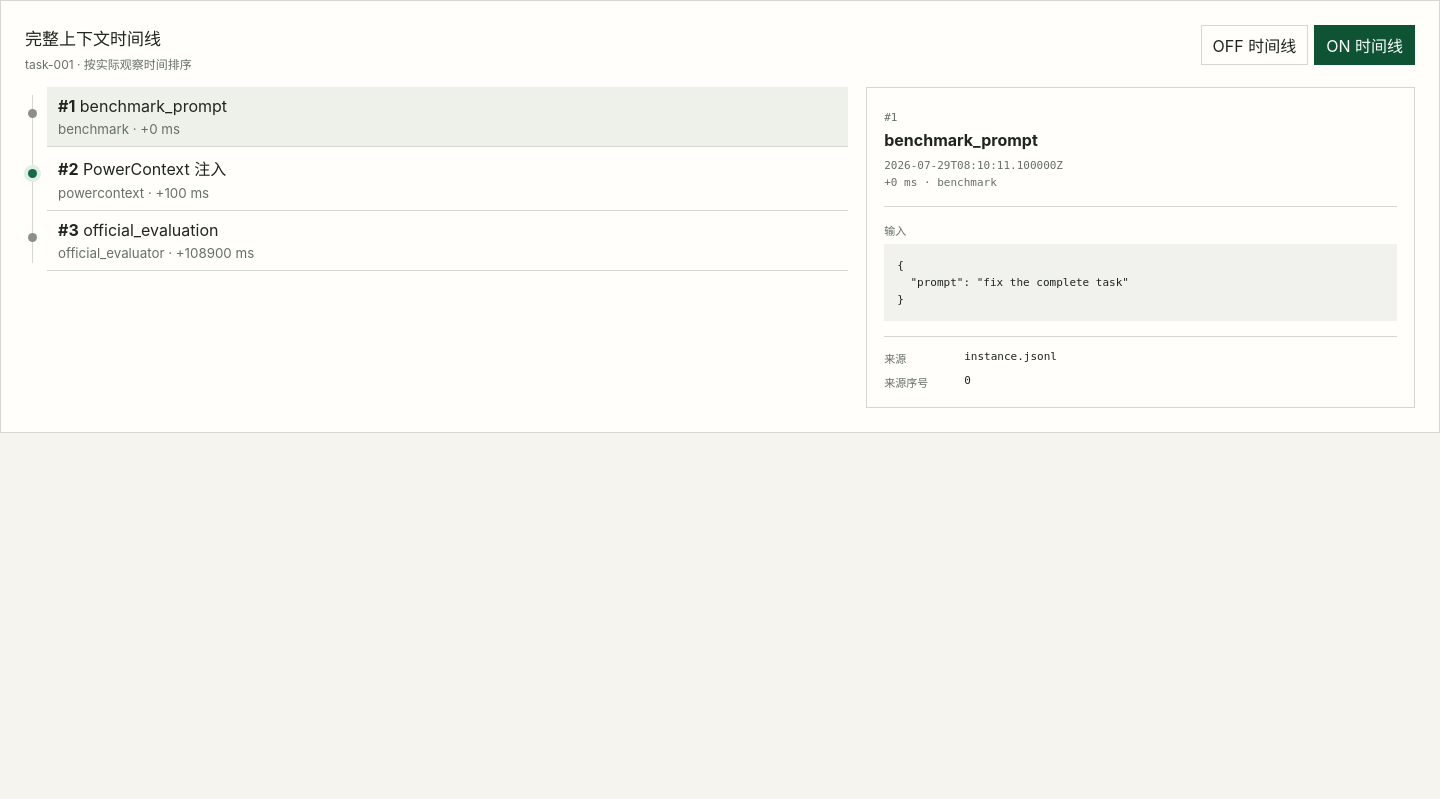
Test: ContextTimeline › loads every page in sequence order and exposes exact injection content safely
Expected: the button "#1 benchmark_prompt benchmark · +0 ms" is shown, x1=47 y1=87 x2=848 y2=147
Expected: the button "#3 official_evaluation official_evaluator · +108900 ms" is shown, x1=47 y1=211 x2=848 y2=271
Click the button "#2 PowerContext 注入 powercontext · +100 ms": (155, 169) x1=47 y1=147 x2=848 y2=211
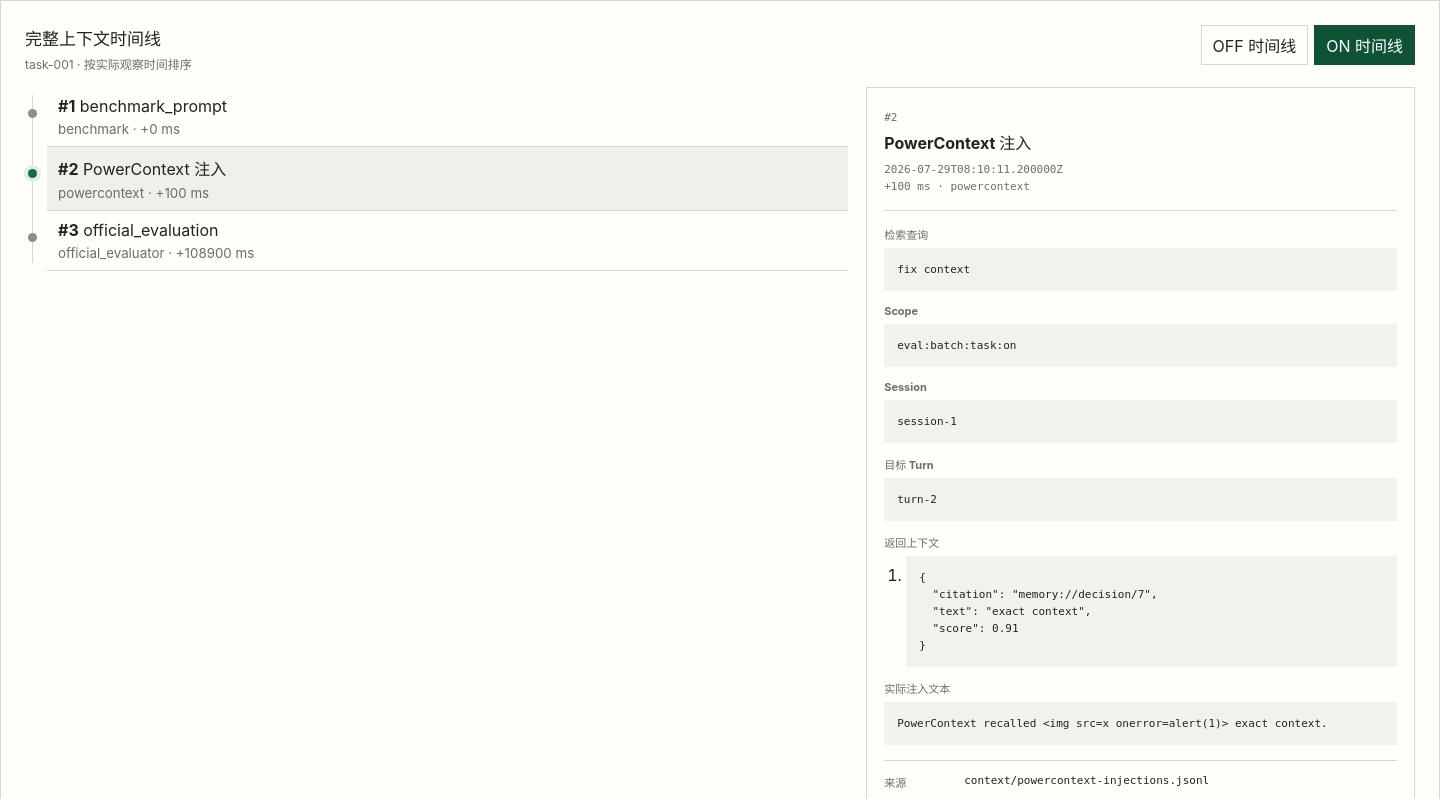
Now the text "2026-07-29T08:10:11.200000Z" is shown, box x1=884 y1=163 x2=1063 y2=176
Now the text "+100 ms · powercontext" is shown, box x1=884 y1=180 x2=1030 y2=193
Now the text "fix context" is shown, box x1=884 y1=248 x2=1397 y2=291
